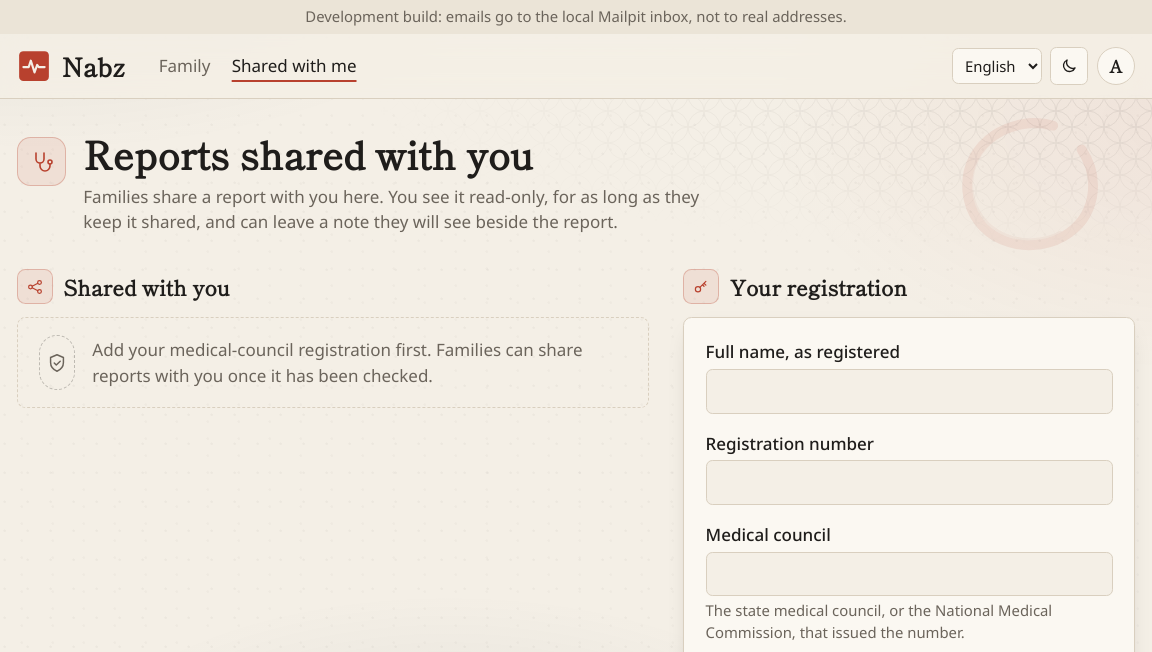
a doctor on Nabz › registers, and sees nothing shared until an admin has checked the registration
Expected: the heading "Reports shared with you" is shown, [83,126,534,181]
Expected: the text "Add your medical-council registration first" is shown, [92,338,583,387]
Type "Dr. Anjali Rath" into the field labelled "Full name, as registered" at (909, 391), box [706,369,1113,414]
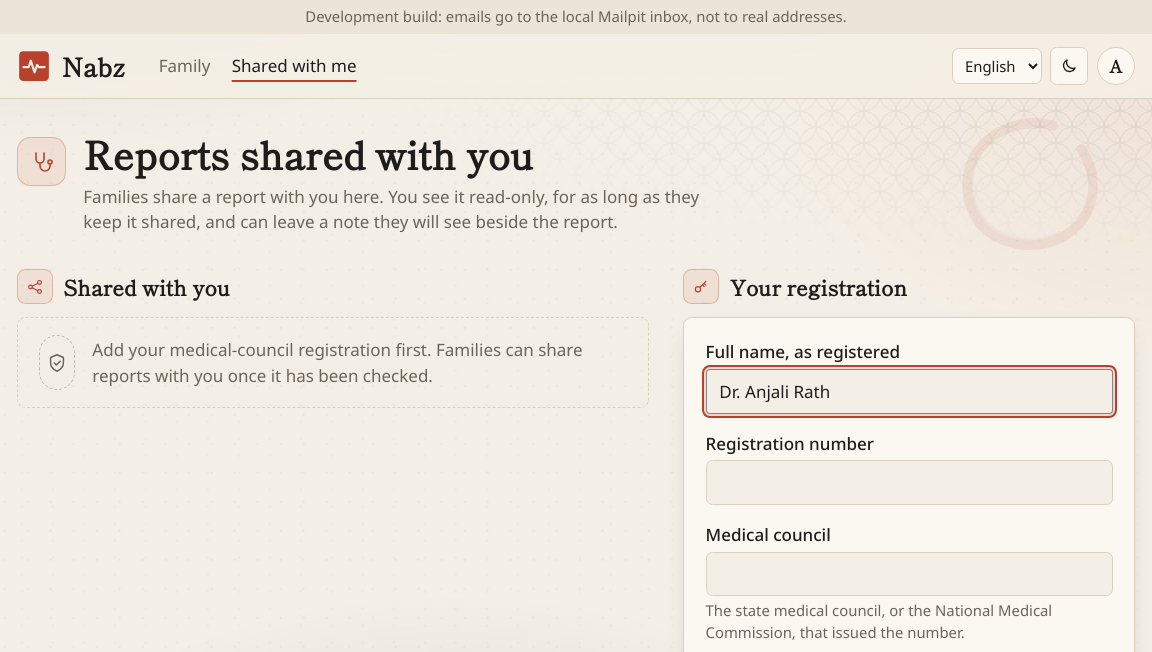
Type "OCMR 40213" into the field labelled "Registration number" at (909, 483), box [706,460,1113,505]
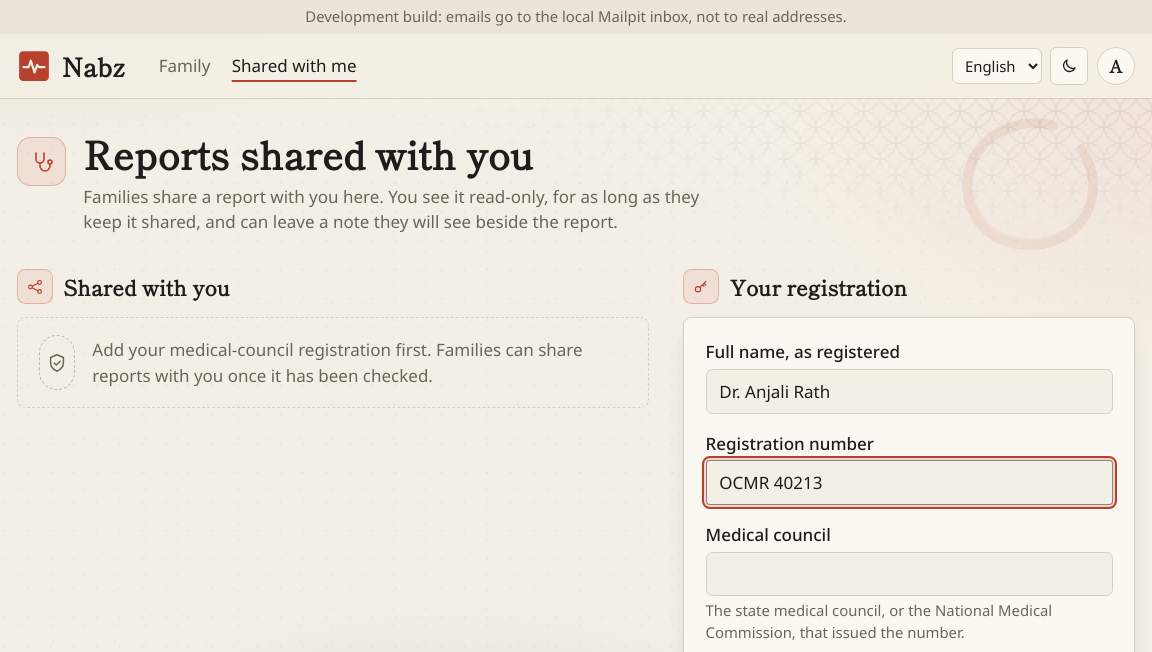
Type "Odisha Council of Medical Registration" into the field labelled "Medical council" at (909, 574), box [706,552,1113,596]
(page scrolled)
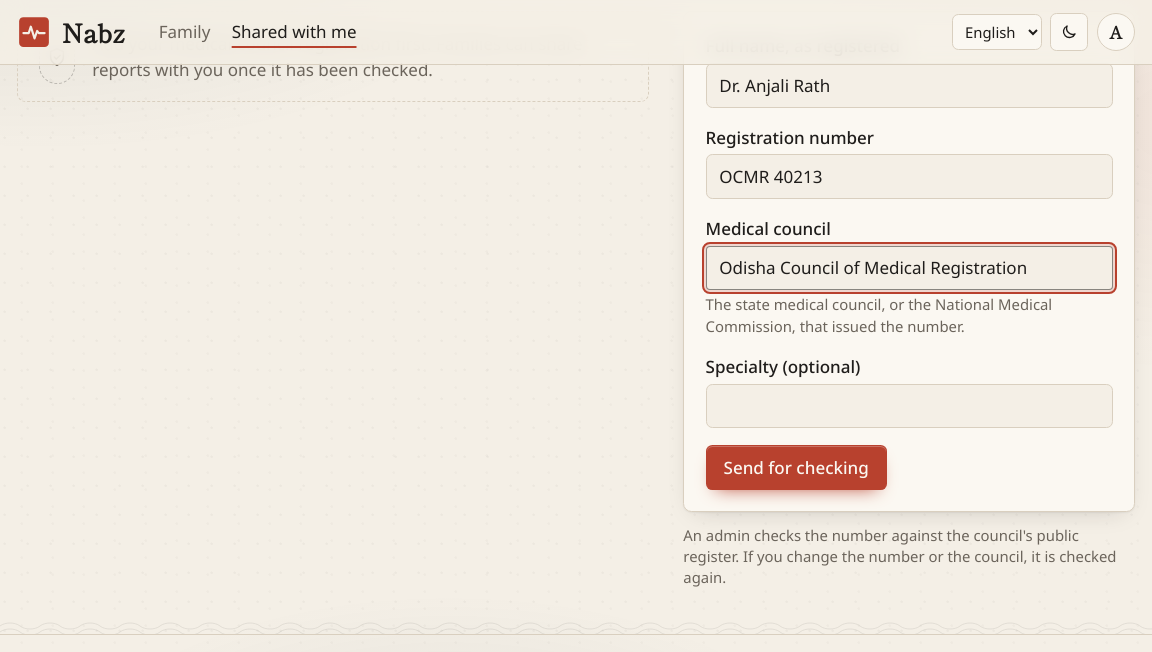
Click the button "Send for checking" at (796, 467), box [706,445,887,490]
(page scrolled)
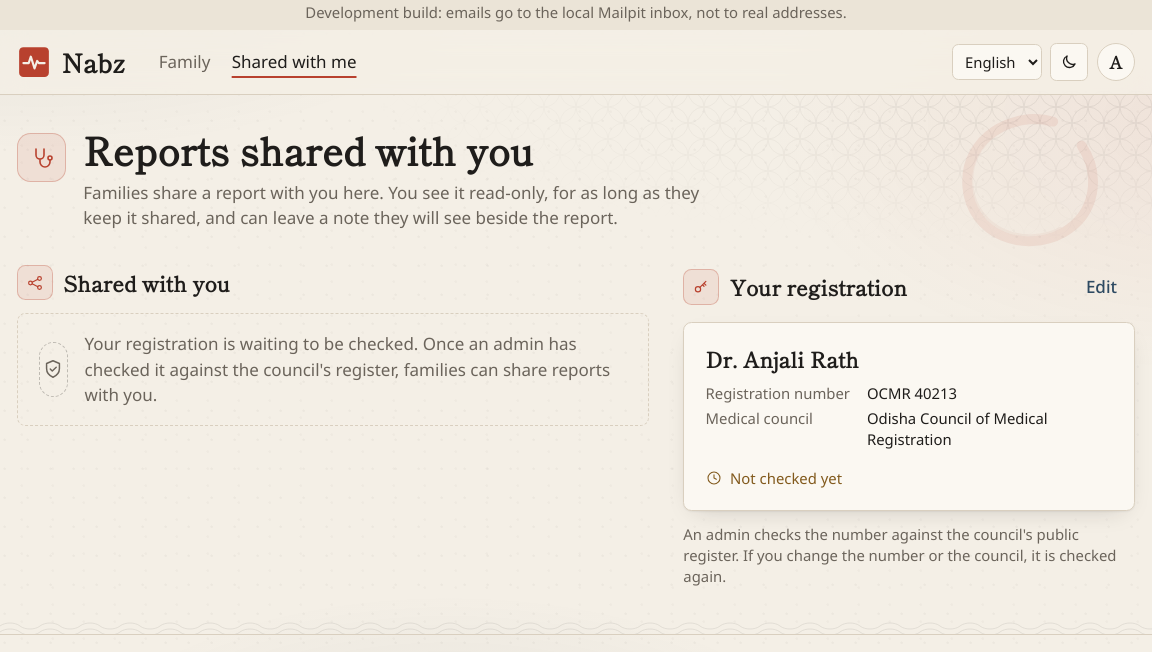
Result: the text "Not checked yet" is shown at [706,468,842,488]
Result: the text "waiting to be checked" is shown at [84,332,610,406]
